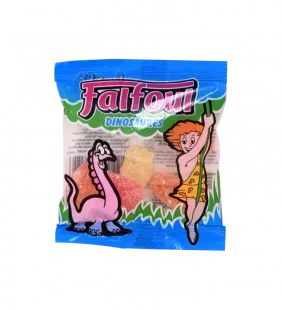FALFOUL: (44, 52, 236, 260)
